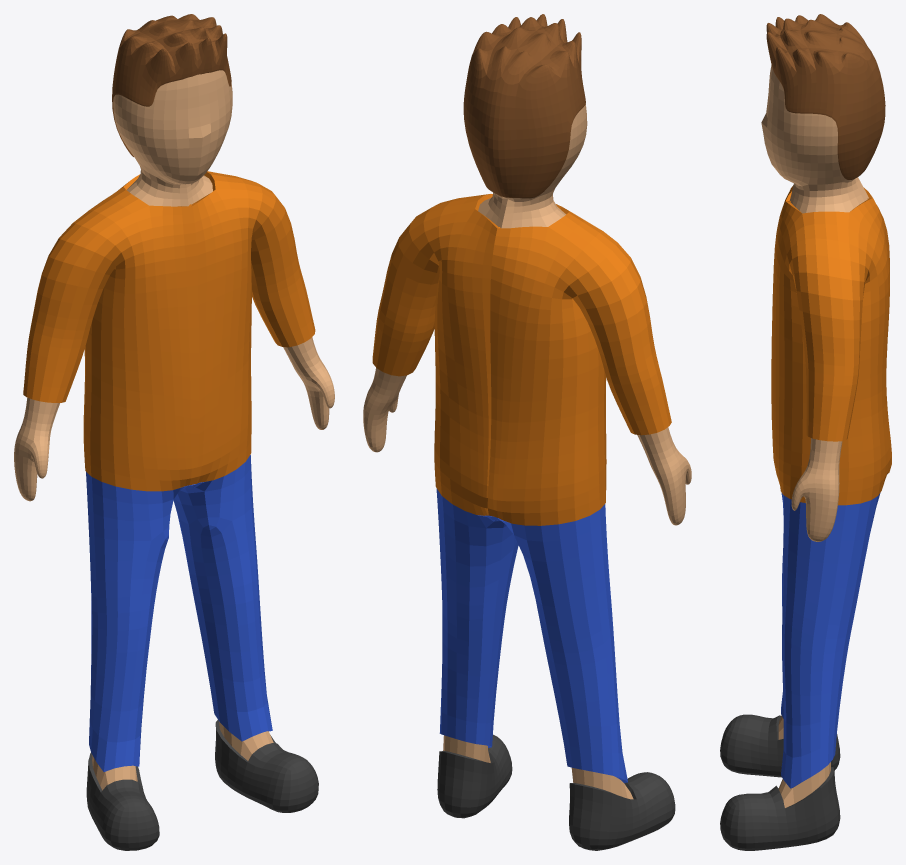
The model's file is Boy.fbx.
3 views of the same model, side by side, from view 1: azimuth 30°, elevation 25°; view 2: azimuth 150°, elevation 25°; view 3: azimuth 270°, elevation 25° (orthographic). The views are drawn at different scales.
Visible parts, largest first — view 1: Cube.003, Cube.004, Cube.001, Cube.002; view 2: Cube.003, Cube.004, Cube.001, Cube.002; view 3: Cube.003, Cube.001, Cube.004, Cube.002.
Boxes of the visible parts, box(x1,y1,x2,y2) form: Cube.003: box(23, 171, 315, 491); Cube.004: box(86, 455, 272, 771); Cube.001: box(14, 70, 334, 850); Cube.002: box(112, 14, 231, 156); Cube.003: box(372, 194, 671, 525); Cube.004: box(436, 488, 627, 783); Cube.001: box(363, 104, 691, 850); Cube.002: box(463, 14, 585, 198); Cube.003: box(771, 185, 891, 505); Cube.001: box(720, 65, 868, 850); Cube.004: box(781, 493, 880, 788); Cube.002: box(766, 14, 885, 179).
Size of the model in its own units: 474 by 1153 by 229.
